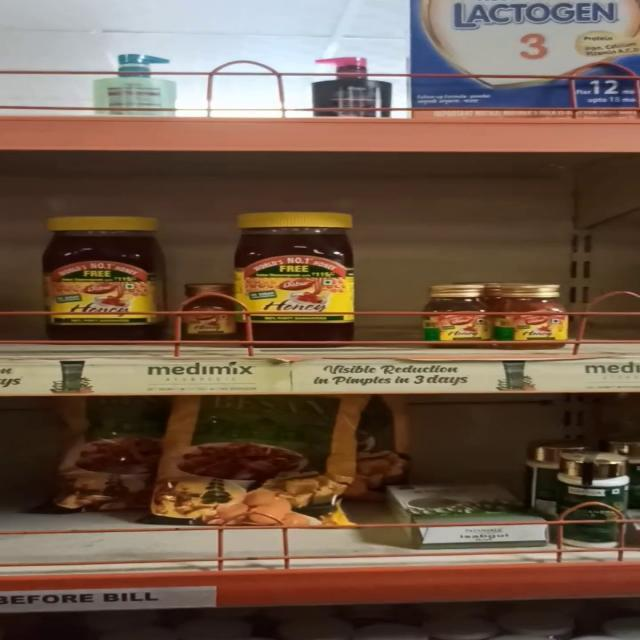Dabur Honey: (235, 209, 365, 356), (33, 218, 164, 349), (422, 286, 496, 356), (513, 290, 585, 356), (178, 291, 238, 346)
